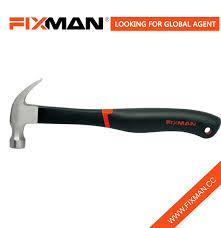hammer: (6, 75, 220, 151)
